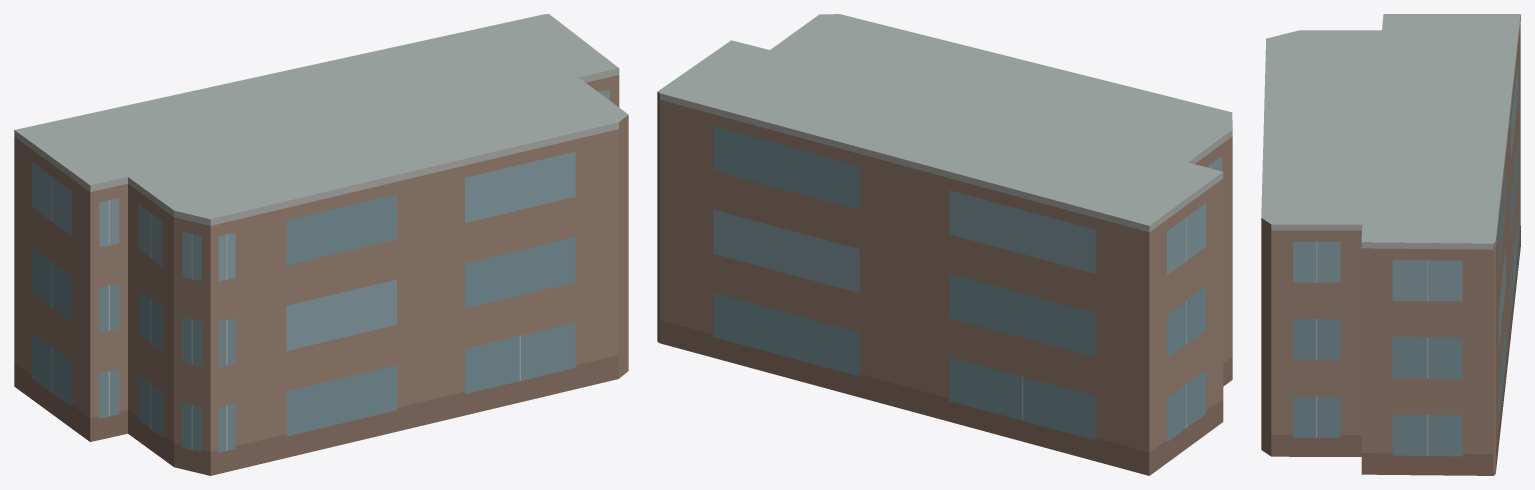
The model's file is survey-upis-33044728.glb.
The picture shows the model from 3 angles, left to right: view 1: azimuth 30°, elevation 25°; view 2: azimuth 150°, elevation 25°; view 3: azimuth 270°, elevation 25°; orthographic projection. The views are drawn at different scales.
Parts seen in each view (by area): view 1: survey-upis-33044728.tmp; view 2: survey-upis-33044728.tmp; view 3: survey-upis-33044728.tmp.
Boxes of the visible parts, bbox=[...] form: survey-upis-33044728.tmp: bbox=[14, 14, 628, 475]; survey-upis-33044728.tmp: bbox=[657, 14, 1232, 475]; survey-upis-33044728.tmp: bbox=[1261, 14, 1520, 475].
Size of the model in its own units: 19.95 by 9.4 by 9.53.
